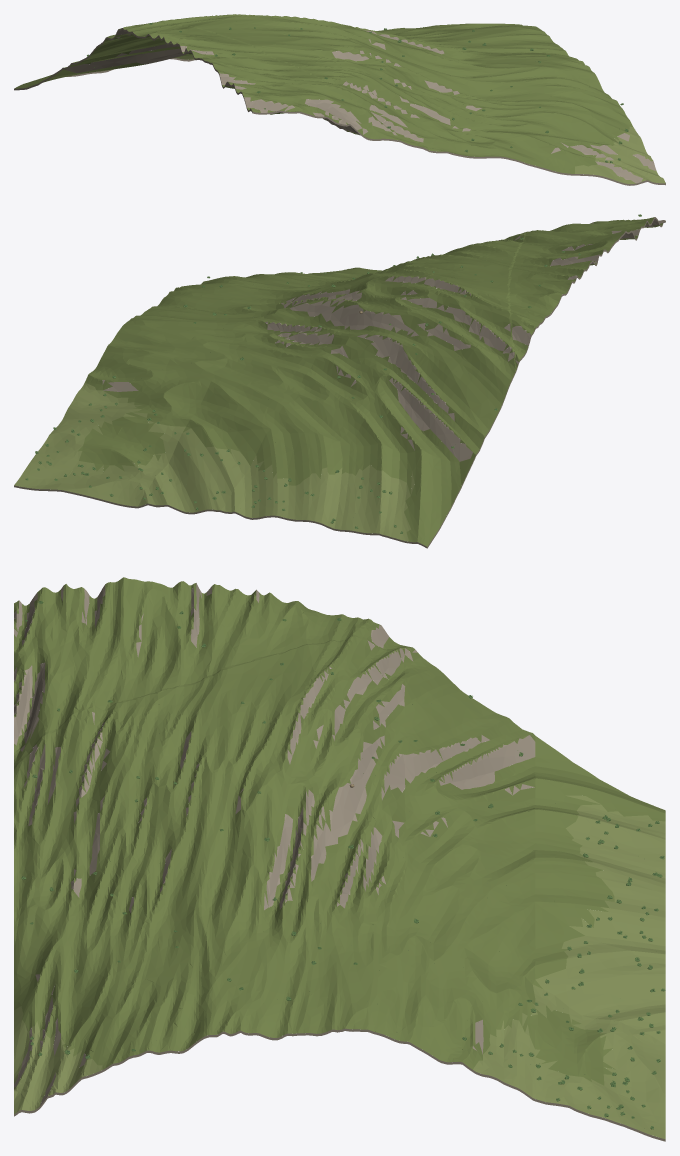
The model's file is parca_+8_-5-yakin.glb.
3 views of the same model, one above another, from view 1: azimuth 30°, elevation 25°; view 2: azimuth 150°, elevation 25°; view 3: azimuth 270°, elevation 25° (orthographic). The views are drawn at different scales.
Visible parts, largest first — view 1: parca_+8_-5_arazi, parca_+8_-5_bitkiler; view 2: parca_+8_-5_arazi, parca_+8_-5_bitkiler; view 3: parca_+8_-5_arazi, parca_+8_-5_bitkiler.
Boxes of the visible parts, x1=… form: parca_+8_-5_arazi: x1=14, y1=14, x2=665, y2=185; parca_+8_-5_bitkiler: x1=87, y1=23, x2=628, y2=162; parca_+8_-5_arazi: x1=14, y1=217, x2=665, y2=548; parca_+8_-5_bitkiler: x1=25, y1=214, x2=641, y2=533; parca_+8_-5_arazi: x1=14, y1=577, x2=665, y2=1141; parca_+8_-5_bitkiler: x1=21, y1=601, x2=665, y2=1129.
Bounding box in the file's own units: 1004 × 489 × 1000.
